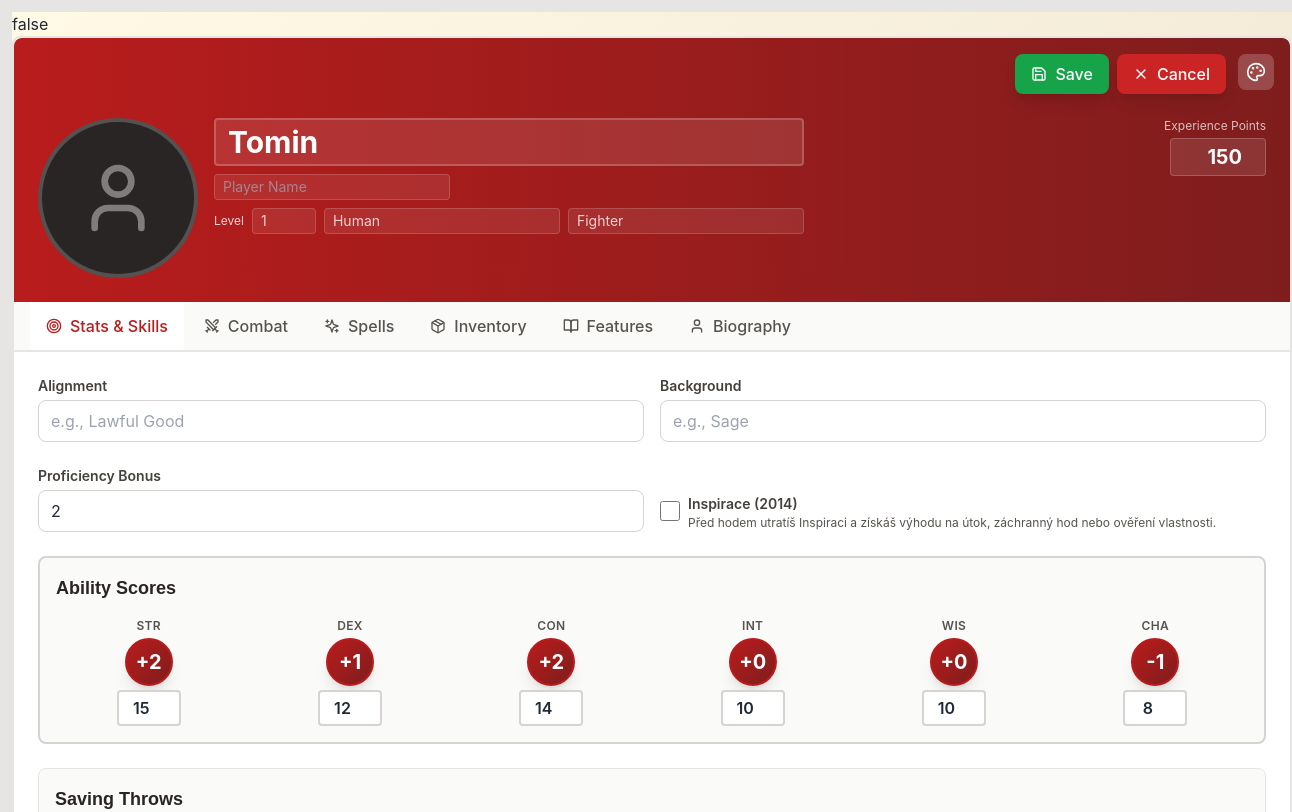
Test: D&D 5e live sync (editor + store + hook) › typing after a remote update is tracked as a user edit
Replace the text in the 1st field with placeholder "Character Name" with "Typed": {"x": 509, "y": 142} [214,118,804,166]
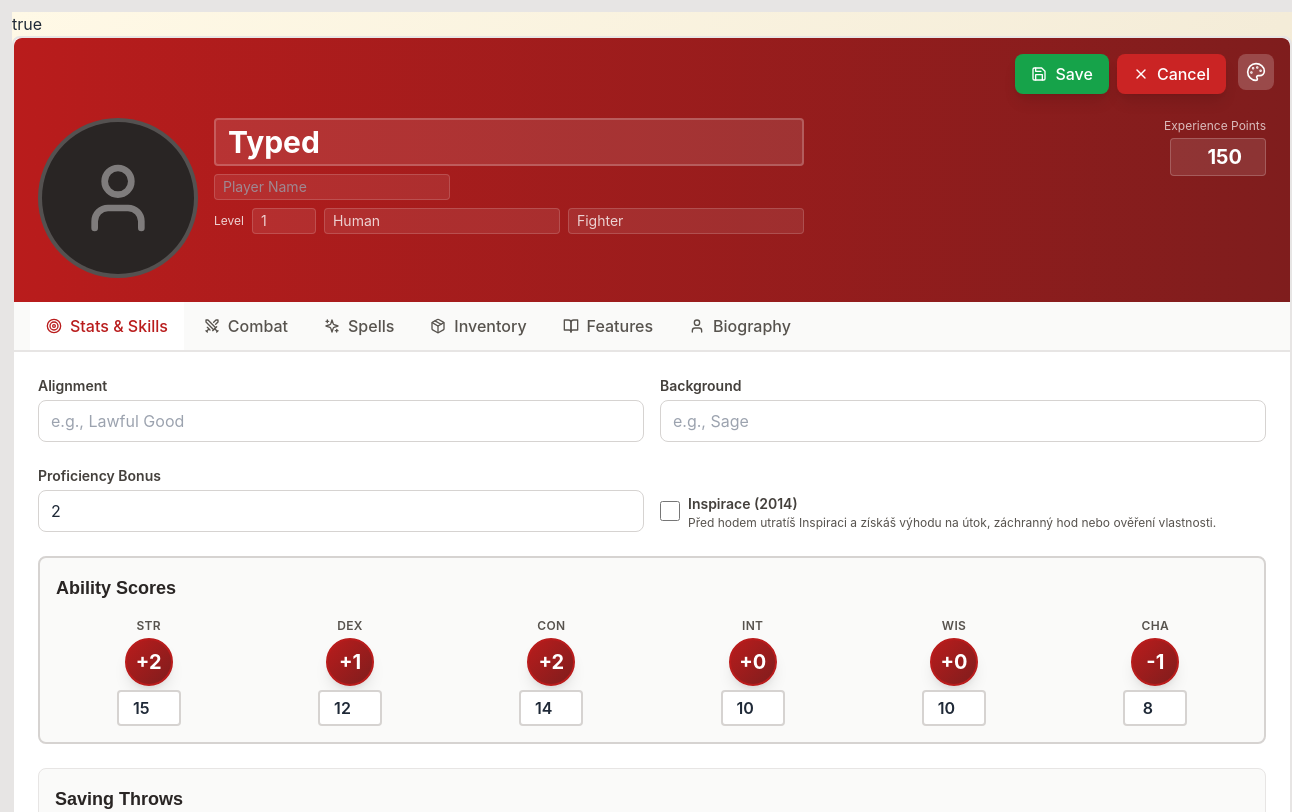
Now the text with test id "dirty" reads "true", box [12,14,42,34]
